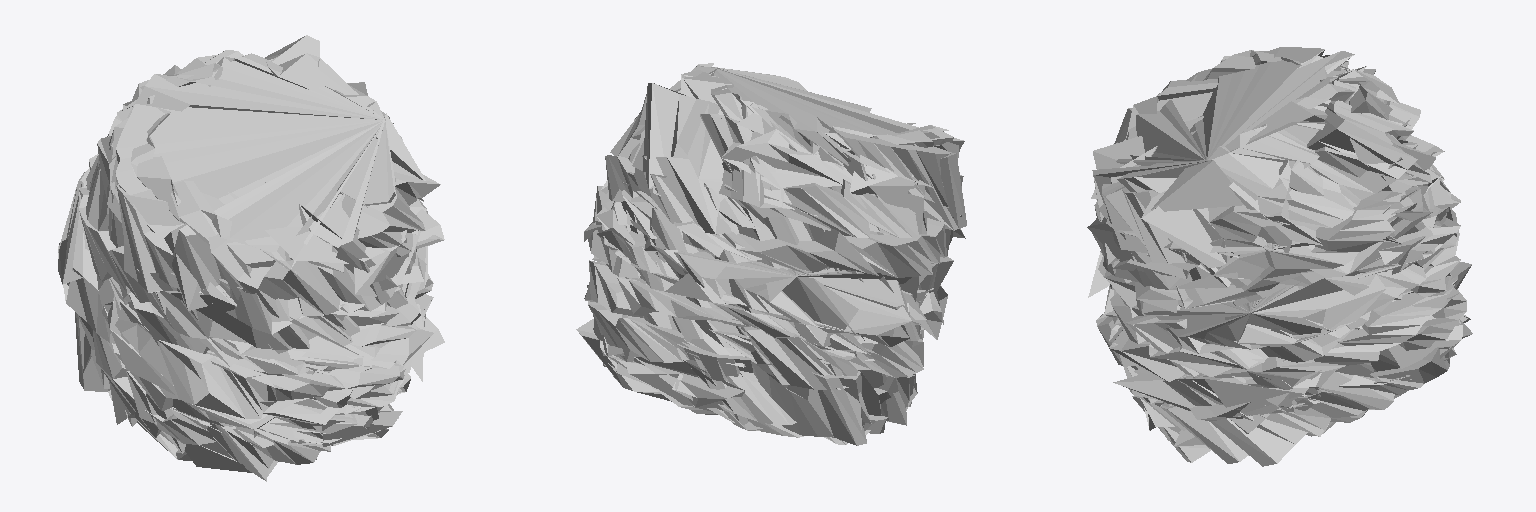
The model's file is word.obj.
3 views of the same model, side by side, from view 1: azimuth 30°, elevation 25°; view 2: azimuth 150°, elevation 25°; view 3: azimuth 270°, elevation 25° (orthographic).
Visible parts, largest first — view 1: Cilindro.001; view 2: Cilindro.001; view 3: Cilindro.001.
Boxes of the visible parts, box(x1,y1,x2,y2) form: Cilindro.001: box(58, 35, 444, 481); Cilindro.001: box(576, 63, 966, 445); Cilindro.001: box(1087, 47, 1472, 466).
Size of the model in its own units: 5.25 by 5.31 by 5.22.